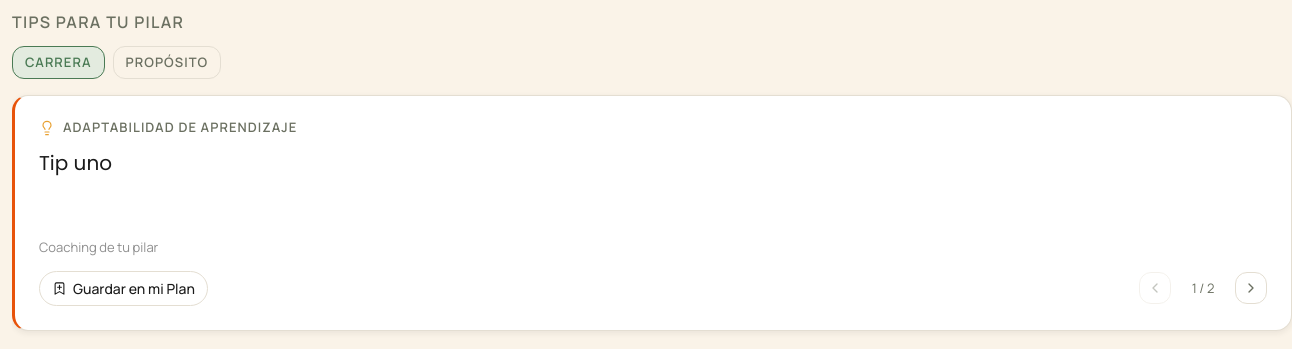
Test: PillarTipsViewer › muestra un tip a la vez y navega entre ellos
This screenshot has width=1292, height=349.
Expected: the text "Tip uno" is shown, [39,149,112,177]
Expected: the text "Tip dos" is not shown
Click the button named "Tip siguiente". click: (1251, 288)
box: [1235,272,1267,304]
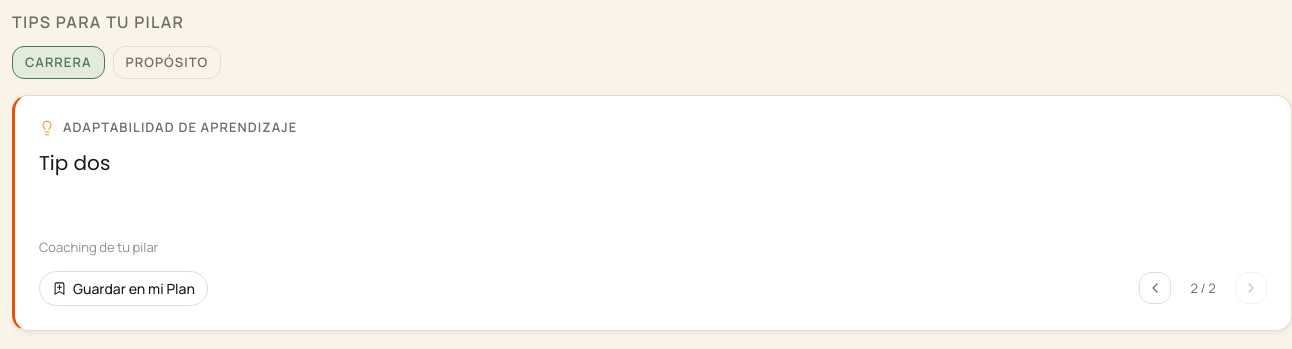
Now the text "Tip dos" is shown, box [39,149,110,177]
Now the text "2 / 2" is shown, box [1190,279,1216,297]
